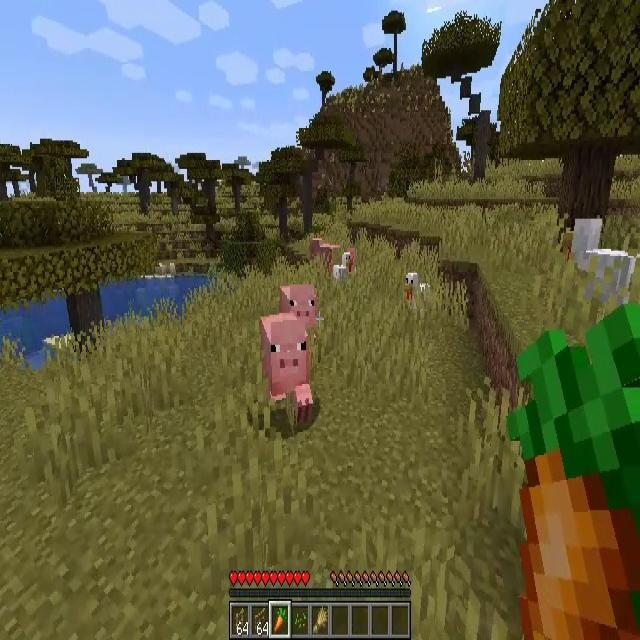duck: (563, 217, 632, 314), (404, 272, 434, 310), (333, 248, 355, 288)
pig: (262, 314, 312, 421), (282, 280, 317, 359)
